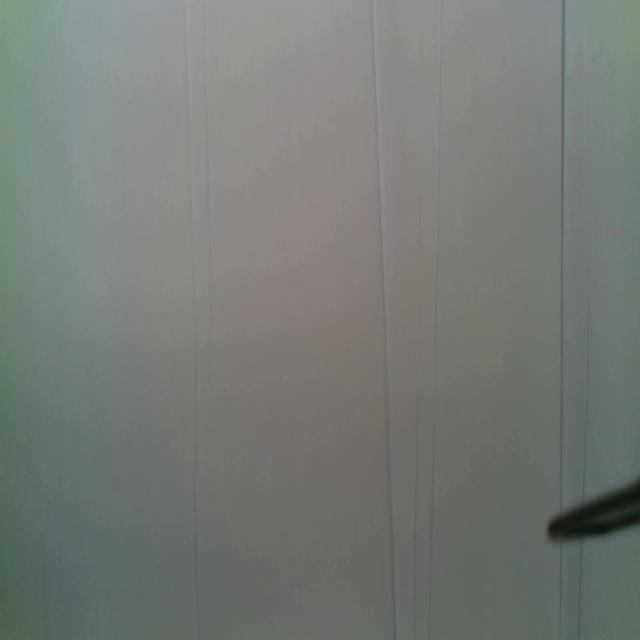crease: (369, 1, 397, 640), (182, 0, 200, 640), (426, 0, 443, 639), (579, 33, 592, 489), (203, 3, 218, 350), (558, 0, 568, 510), (411, 381, 422, 640), (556, 542, 566, 639), (576, 538, 584, 636)
